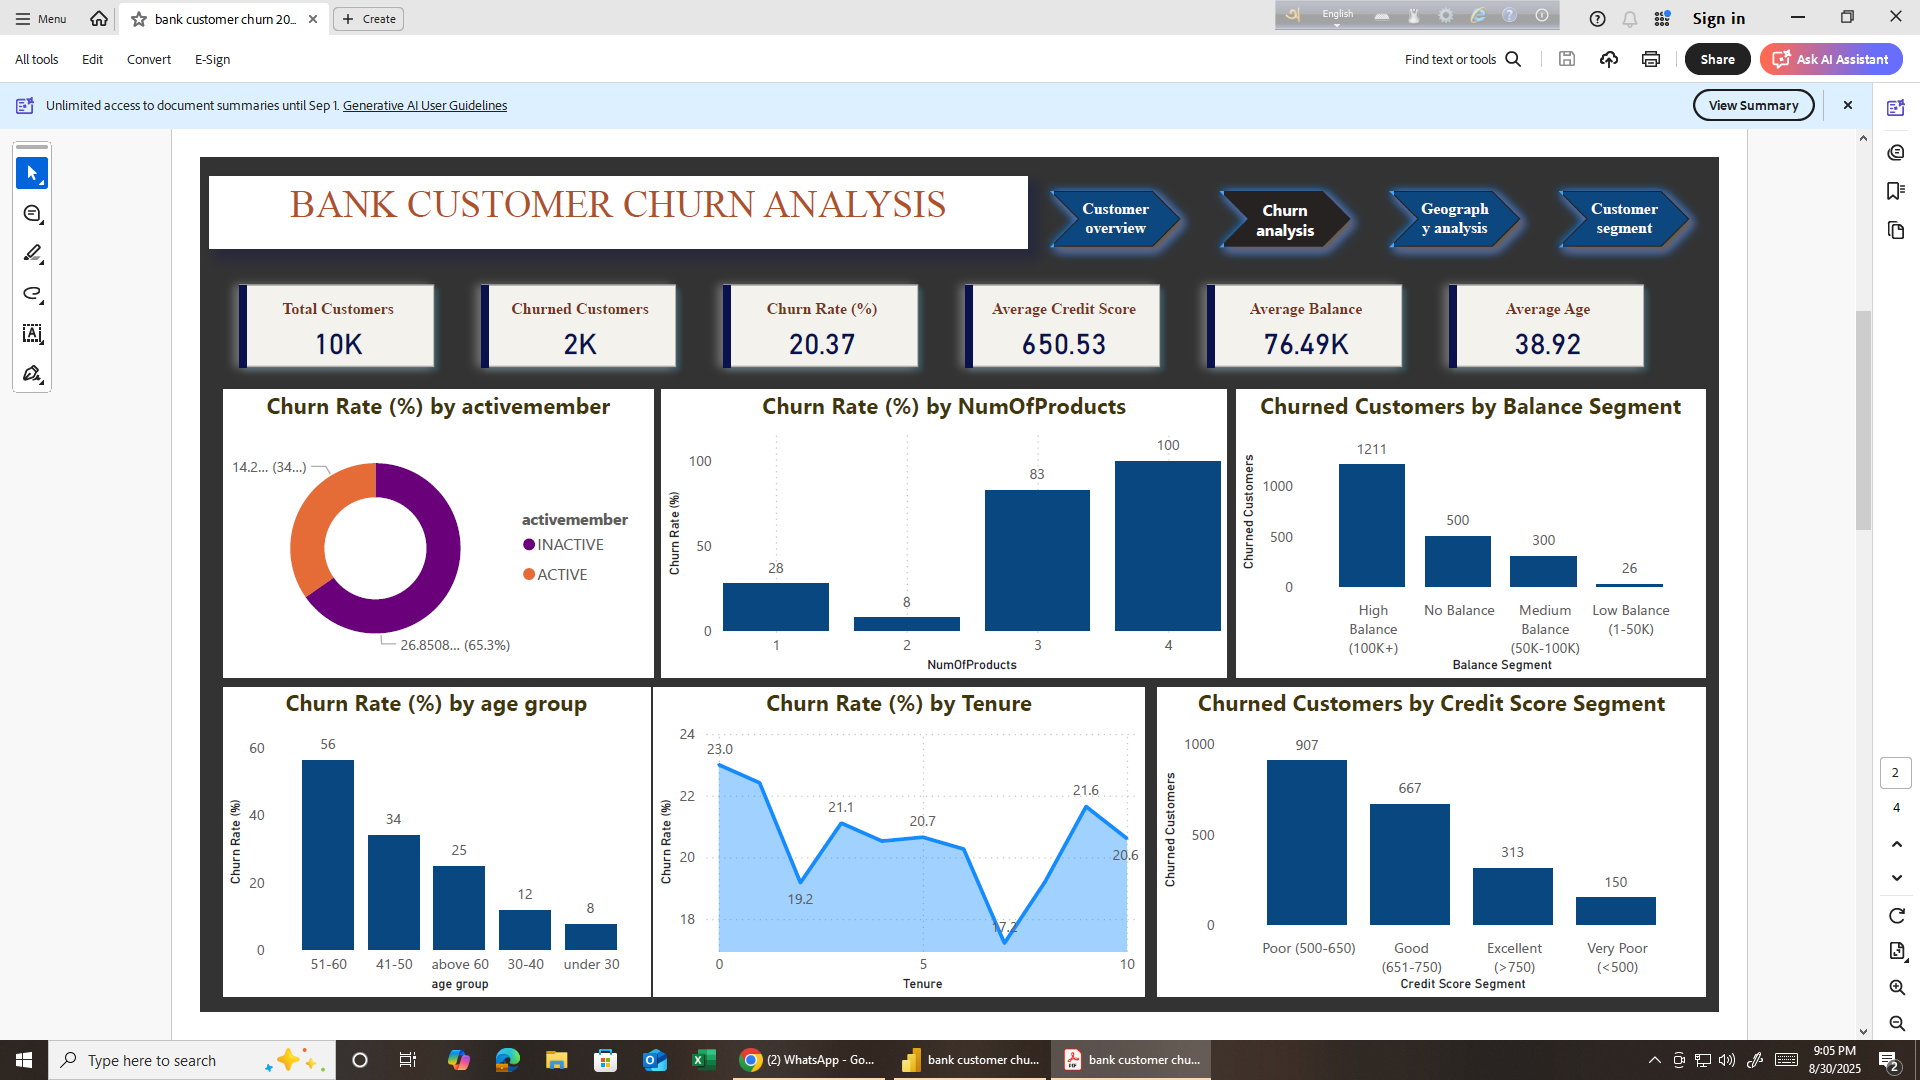

This screenshot's page, from the dashboard's own definition file:
{"tool":"powerbi","page":{"name":"Churn analysis","canvas":[1280,720],"ordinal":1},"visuals":[{"type":"pageNavigator","box":[705.2,16.5,564.1,70],"z":0},{"type":"columnChart","fields":{"Category":["Bank_Churn.age group"],"Y":["measure.Churn Rate (%)"]},"box":[19.5,447.4,359.9,259.7],"z":1000},{"type":"textbox","box":[7.8,15.6,689.6,61.3],"z":2000},{"type":"donutChart","fields":{"Category":["Bank_Churn.activemember"],"Y":["measure.Churn Rate (%)"]},"box":[19.5,196.5,362.8,241.2],"z":3000},{"type":"areaChart","fields":{"Category":["Bank_Churn.Tenure"],"Y":["measure.Churn Rate (%)"]},"box":[389,447.8,406.5,259],"z":4000},{"type":"columnChart","fields":{"Y":["measure.Churn Rate (%)"],"Category":["Bank_Churn.NumOfProducts"]},"box":[389.1,196.5,475.6,241.2],"z":5000},{"type":"columnChart","fields":{"Y":["measure.Churned Customers"],"Category":["Bank_Churn.Balance Segment"]},"box":[873.4,196.5,395.9,241.2],"z":6000},{"type":"columnChart","fields":{"Category":["Bank_Churn.Credit Score Segment"],"Y":["measure.Churned Customers"]},"box":[807.3,447.4,462,259.7],"z":7000},{"type":"cardVisual","fields":{"Data":["measure.Total Customers","measure.Churned Customers","measure.Churn Rate (%)","measure.Average Credit Score","measure.Average Balance","measure.Average Age"]},"box":[11.7,86.6,1230.4,111.9],"z":8000}]}

Visuals, with their boxes on the page's 1280x720 design canvas (x1, y1, x2, y2). These are canvas units, not pixel positions in the 1920x1080 screenshot, which may show the page scaled, cropped or inside an application window:
pageNavigator: 705/16/1269/86
columnChart - Bank_Churn.age group x measure.Churn Rate (%): 20/447/379/707
textbox: 8/16/697/77
donutChart - Bank_Churn.activemember x measure.Churn Rate (%): 20/196/382/438
areaChart - Bank_Churn.Tenure x measure.Churn Rate (%): 389/448/796/707
columnChart - measure.Churn Rate (%) x Bank_Churn.NumOfProducts: 389/196/865/438
columnChart - measure.Churned Customers x Bank_Churn.Balance Segment: 873/196/1269/438
columnChart - Bank_Churn.Credit Score Segment x measure.Churned Customers: 807/447/1269/707
cardVisual - measure.Total Customers x measure.Churned Customers: 12/87/1242/198
